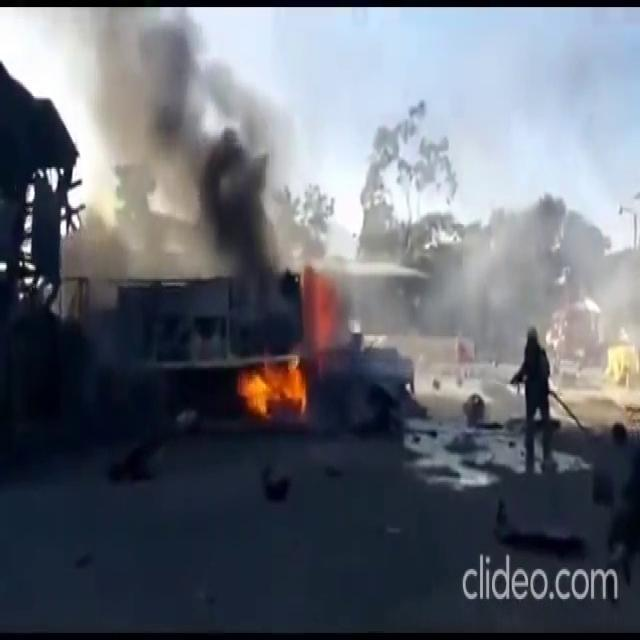Fire: (226, 322, 321, 437)
Smoke: (81, 5, 289, 322)
